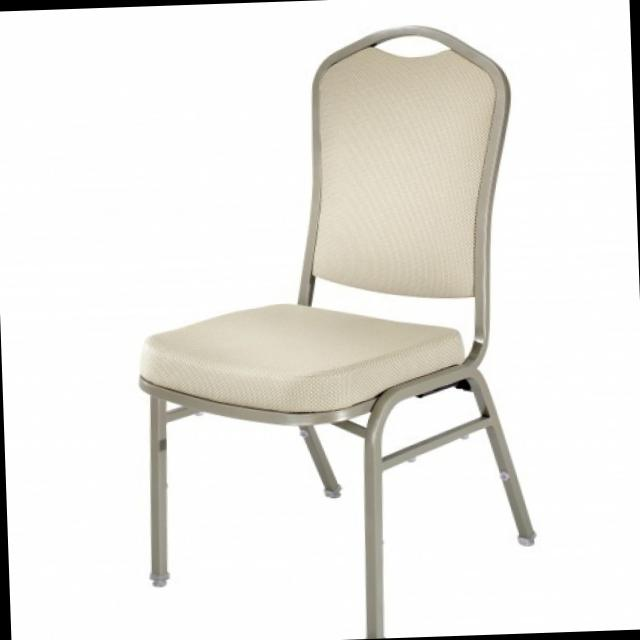Chair: (122, 21, 537, 640)
